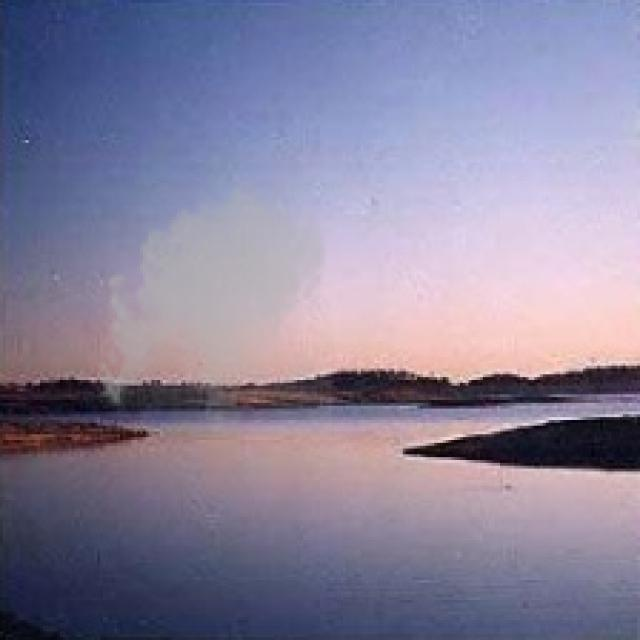Smoke: (92, 172, 334, 438)
